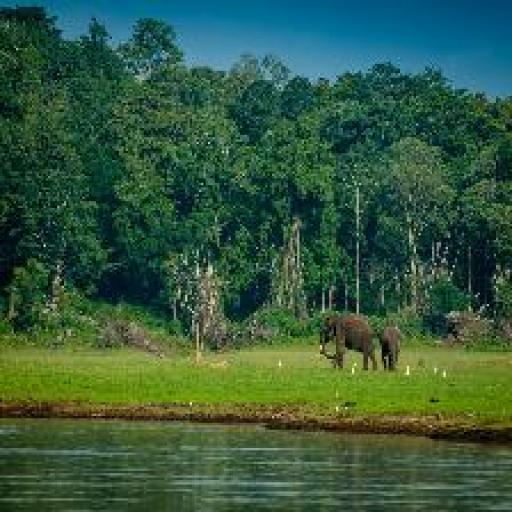Elephant: (318, 311, 377, 370), (377, 325, 402, 370)
